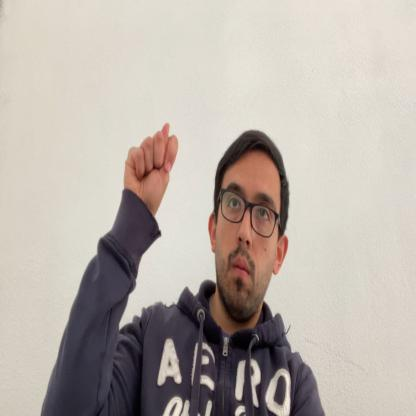T: (125, 120, 179, 213)
